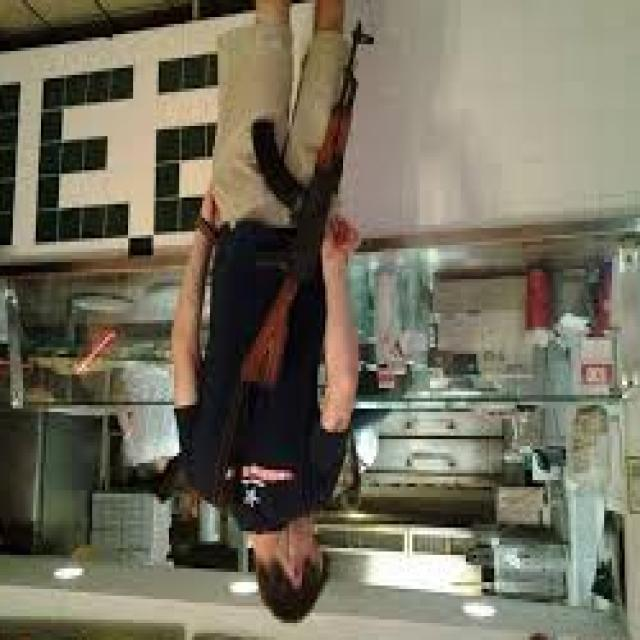gun: (212, 12, 378, 402)
